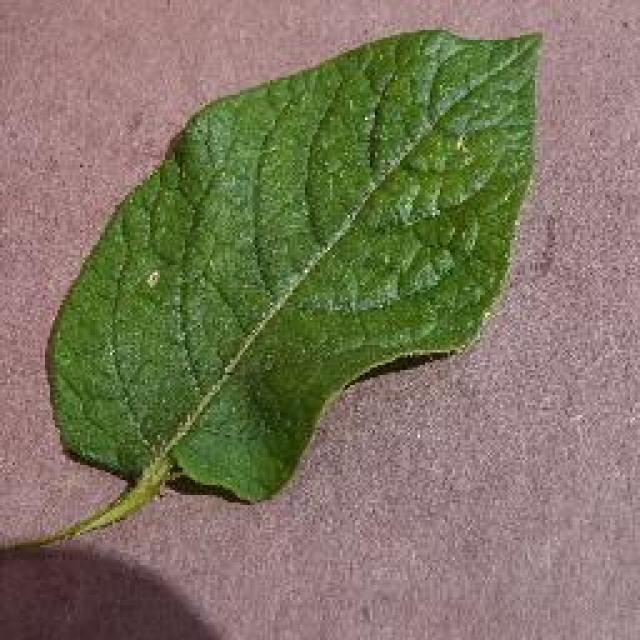Potato___healthy: (82, 40, 525, 522)
